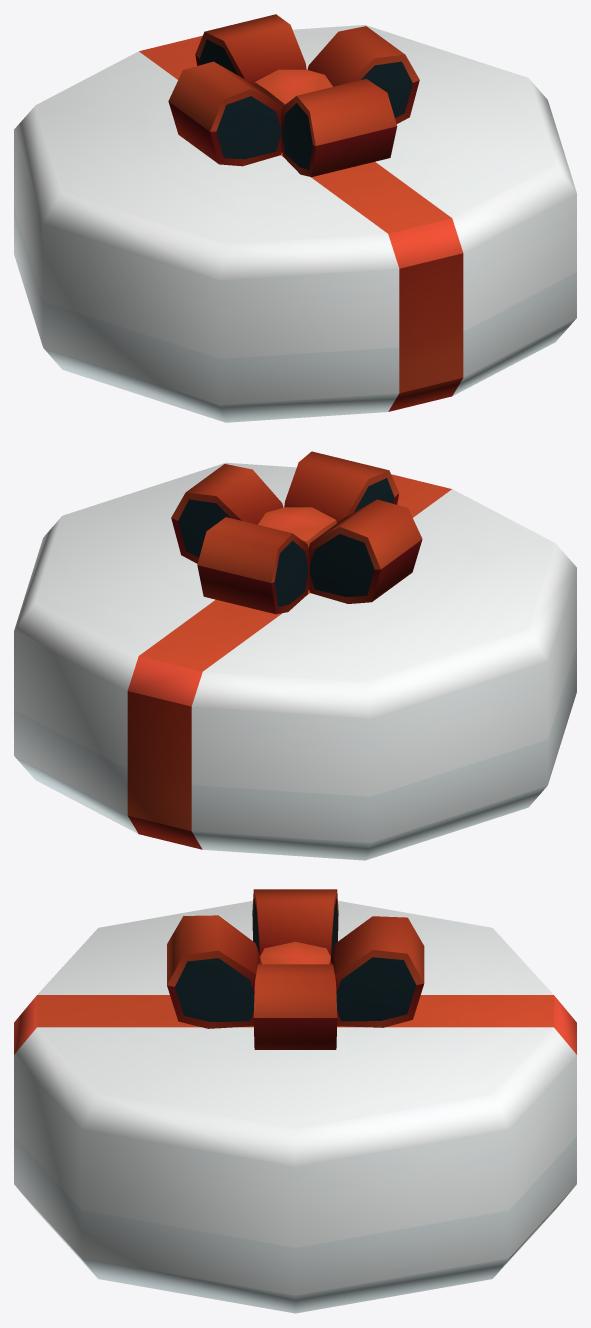
Rendered from presi_round_1_white.fbx.
3 renders of one model, top to bottom at view 1: azimuth 30°, elevation 25°; view 2: azimuth 150°, elevation 25°; view 3: azimuth 270°, elevation 25°, orthographic. The views are drawn at different scales.
Visible parts, largest first — view 1: presi_round_1_white; view 2: presi_round_1_white; view 3: presi_round_1_white.
Boxes of the visible parts, x1,y1,x2,y2 form: presi_round_1_white: [14, 14, 576, 422]; presi_round_1_white: [14, 451, 576, 860]; presi_round_1_white: [14, 889, 576, 1313].
Bounding box in the file's own units: 162 × 77.63 × 151.
Materials: 1 (1 with a texture image).
